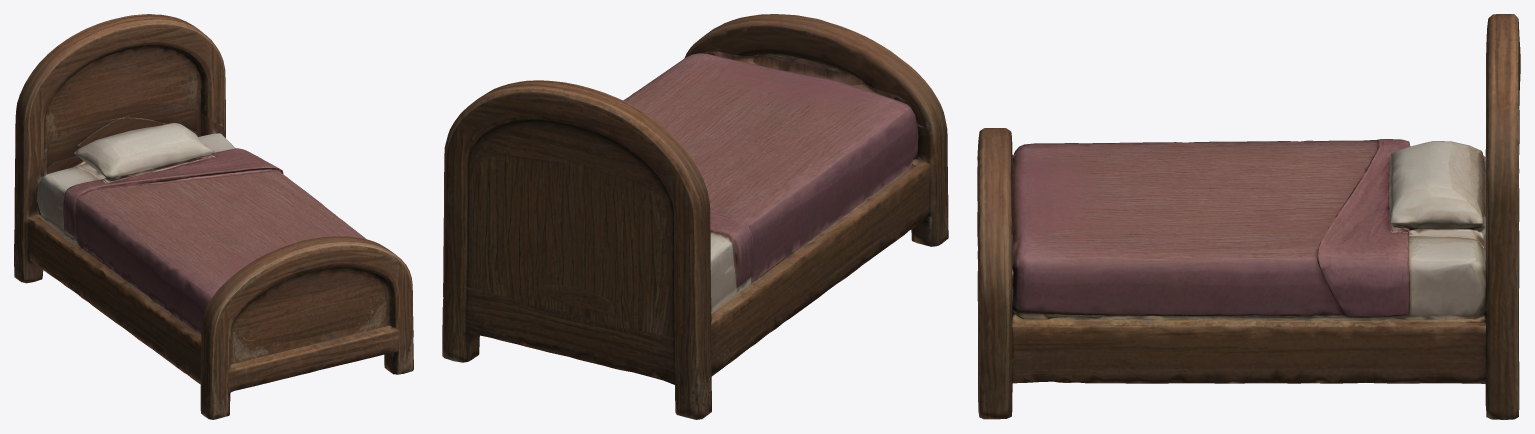
The model's file is Furn_Bed.fbx.
3 renders of one model, left to right at view 1: azimuth 30°, elevation 25°; view 2: azimuth 150°, elevation 25°; view 3: azimuth 270°, elevation 25°, orthographic. The views are drawn at different scales.
Visible parts, largest first — view 1: texture_mapping; view 2: texture_mapping; view 3: texture_mapping.
Boxes of the visible parts, x1=… form: texture_mapping: x1=14, y1=14, x2=413, y2=419; texture_mapping: x1=442, y1=14, x2=948, y2=419; texture_mapping: x1=977, y1=14, x2=1520, y2=419.
Bounding box in the file's own units: 0.593 × 1 × 0.645.
Materials: 1 (1 with a texture image).
